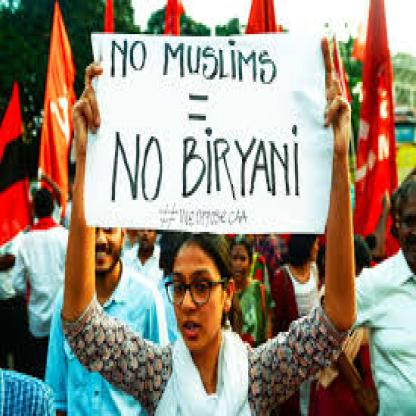BANNER: (82, 14, 355, 239)
